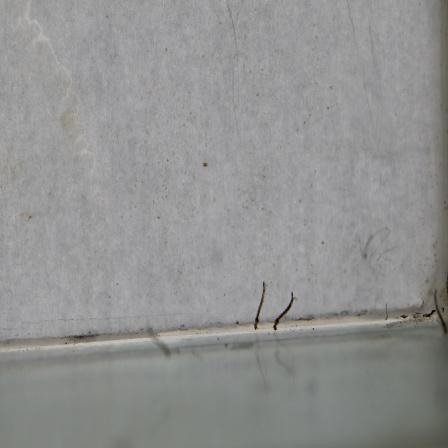Jentik-Nyamuk: (269, 289, 299, 332), (251, 278, 267, 333)
